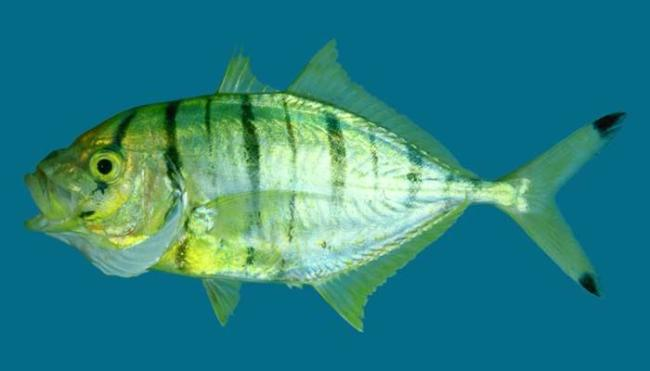fish: (23, 36, 628, 334)
